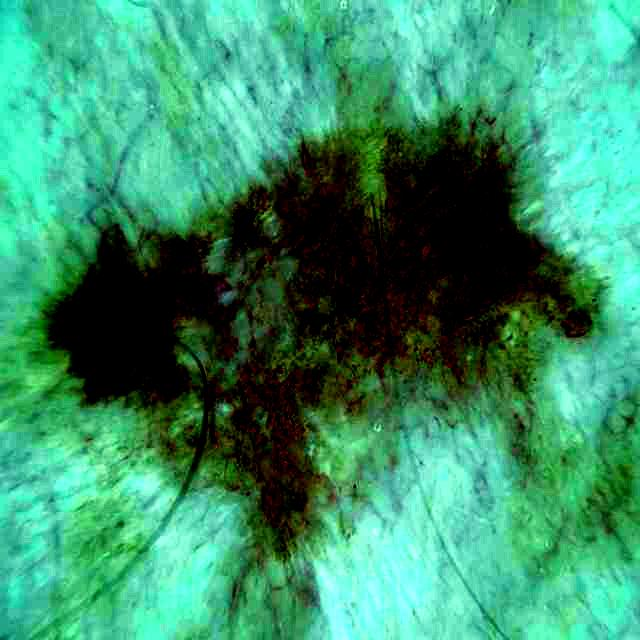BKL: (50, 124, 602, 560)
